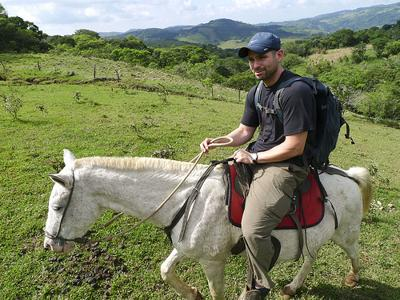person: (199, 31, 320, 300)
